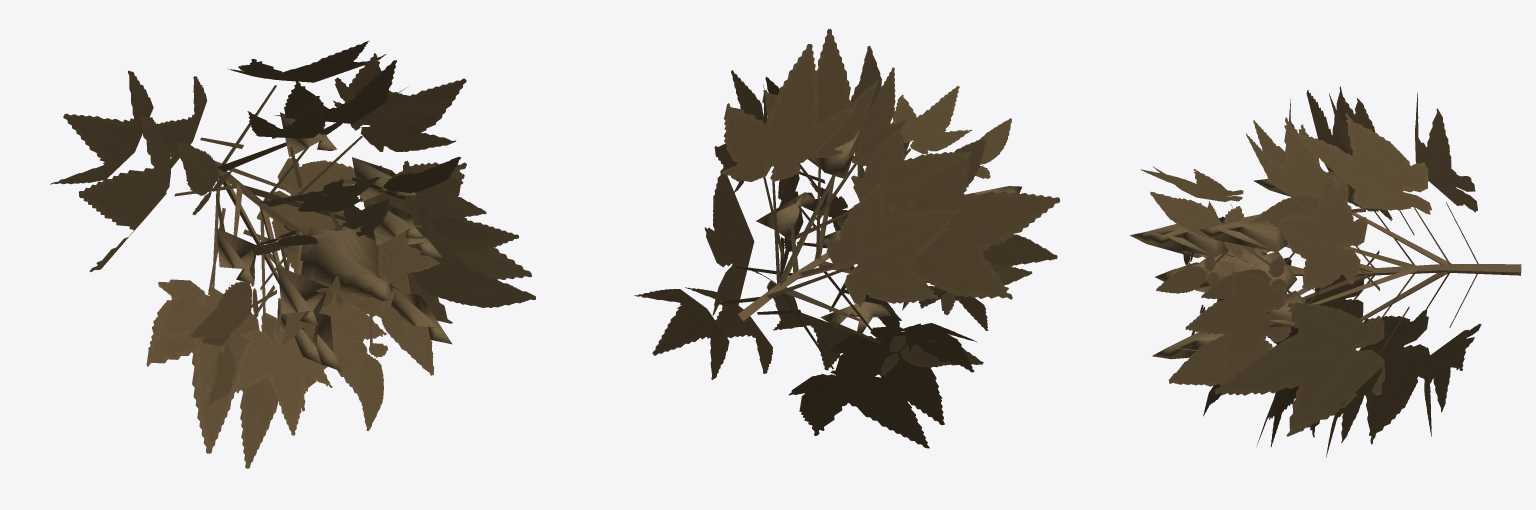
Rendered from p_afghan_flowering_c3_cards.obj.
3 renders of one model, left to right at view 1: azimuth 30°, elevation 25°; view 2: azimuth 150°, elevation 25°; view 3: azimuth 270°, elevation 25°, orthographic. The views are drawn at different scales.
Size of the model in its own units: 1.63 by 1.54 by 1.25.
1 material, 1 textured.
